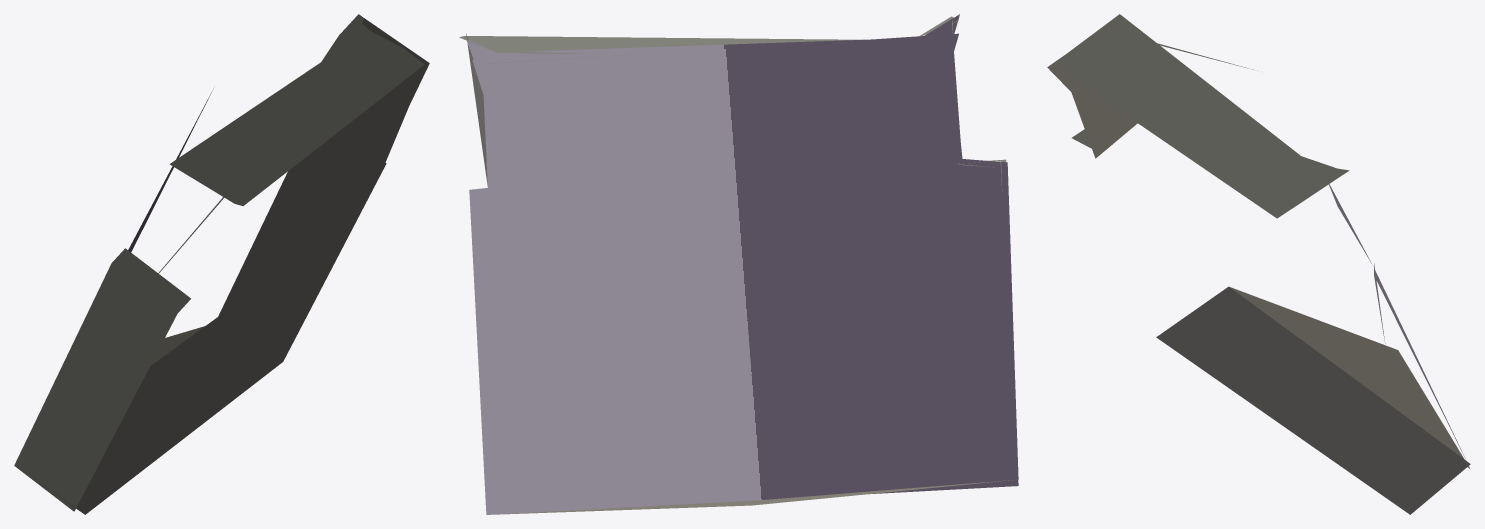
The model's file is tile_LOD3_r6_c1.glb.
The picture shows the model from 3 angles, left to right: view 1: azimuth 30°, elevation 25°; view 2: azimuth 150°, elevation 25°; view 3: azimuth 270°, elevation 25°; orthographic projection. The views are drawn at different scales.
Bounding box in the file's own units: 21.5 × 17 × 17.5.
Materials: 4 (2 with a texture image).
